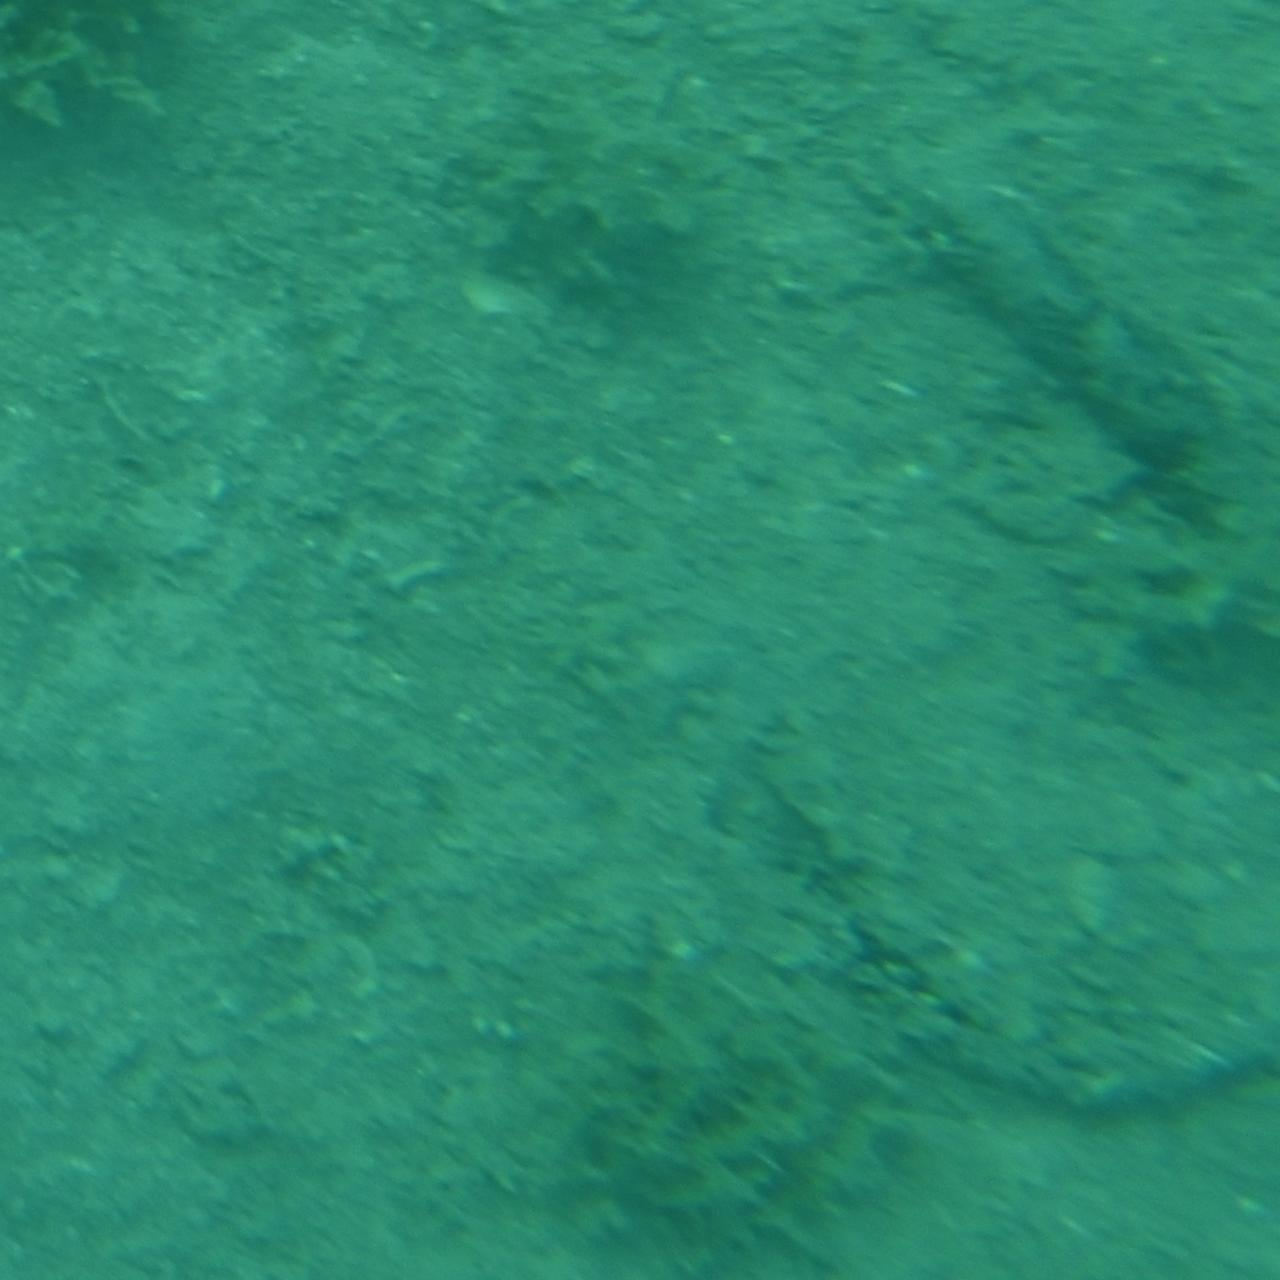Holothuria tubulosa: (731, 750, 1279, 1150), (911, 143, 1279, 519)
